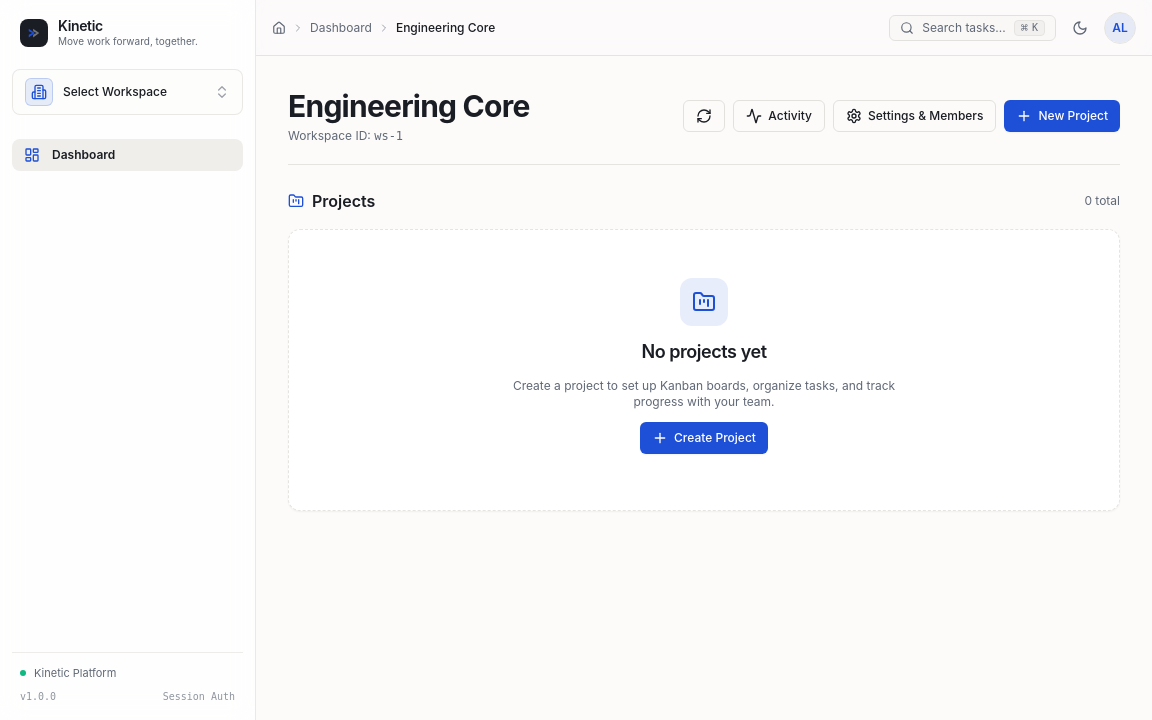
Workspace Flows › WorkspaceOverviewPage › creates a new project in the workspace
The image size is (1152, 720).
Expected: the heading "No projects yet" is shown, [642,341,767,362]
Click the button "New Project": [1062, 116] box [1004,100,1120,132]
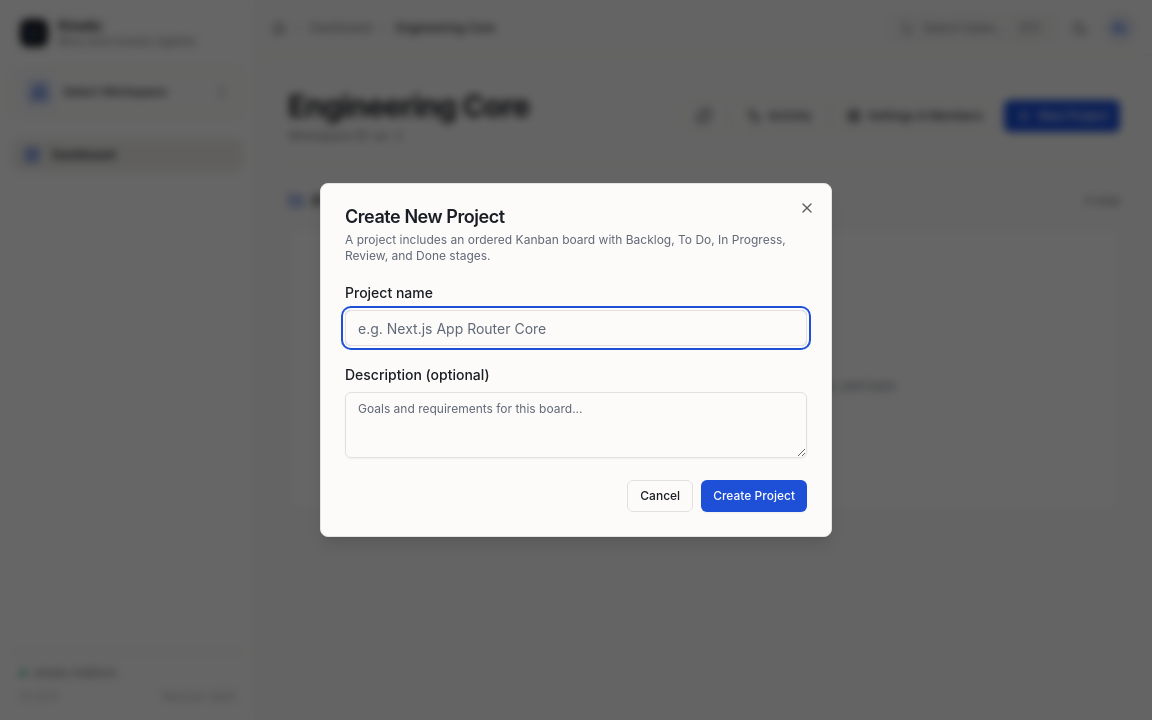
In the field labelled "Project name": [576, 328] box [345,310,807,346], type "Web Application"
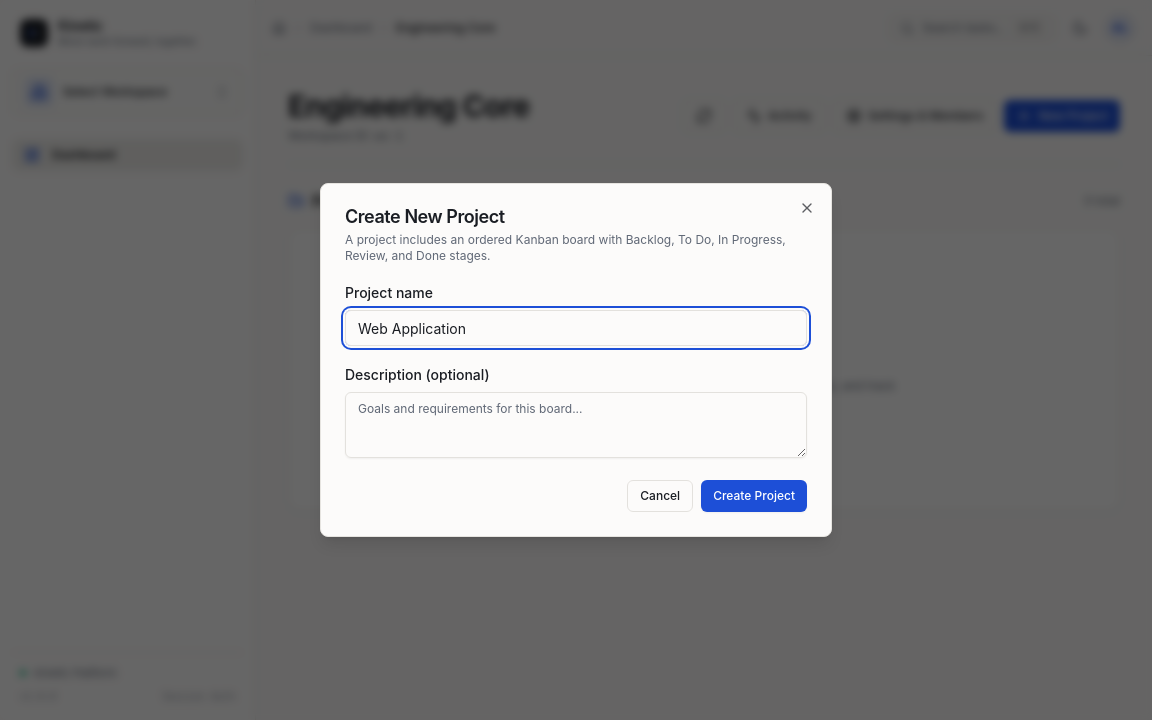
In the text box labelled "Description (optional)": [576, 425] box [345,392,807,458], type "Next.js dashboard"
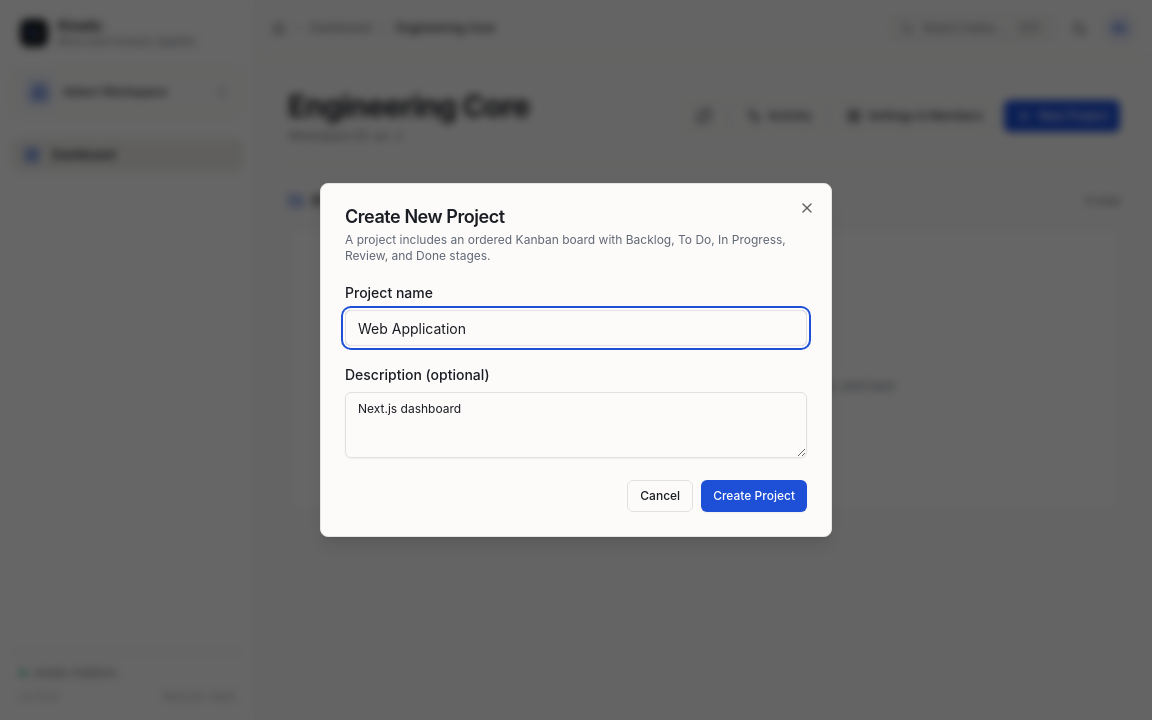
Click the button "Create Project": [754, 496] box [701,480,807,512]
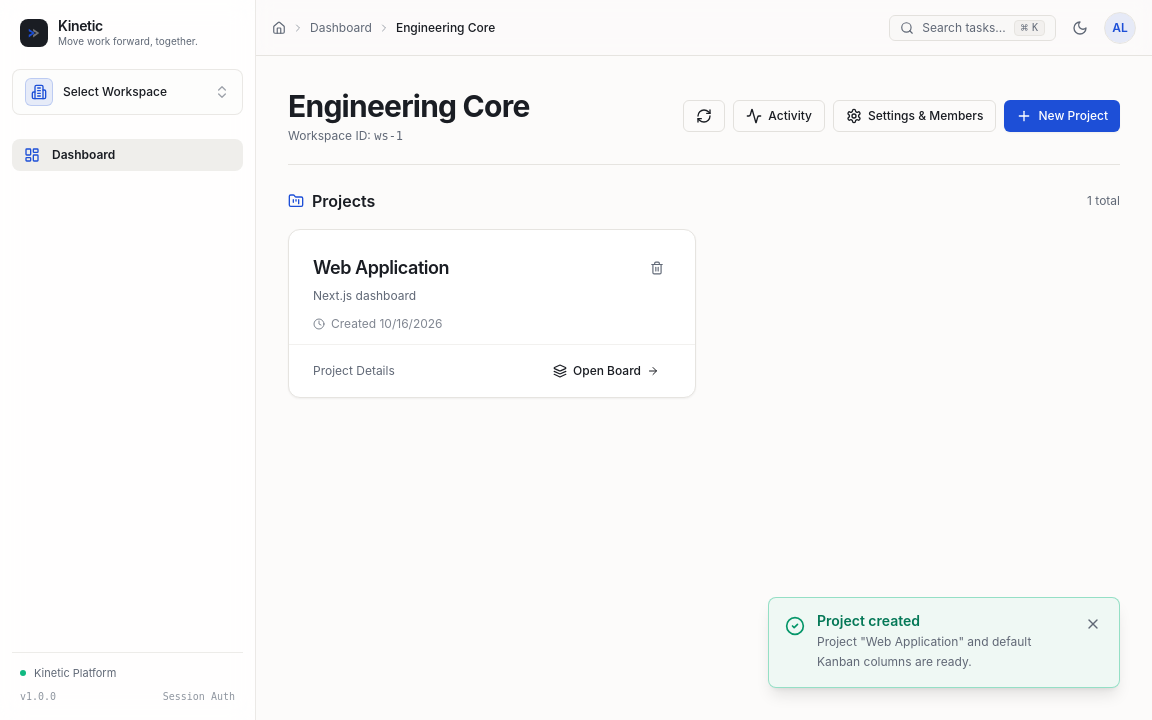
Expected: the heading "Web Application" is shown, [313,254,449,282]
